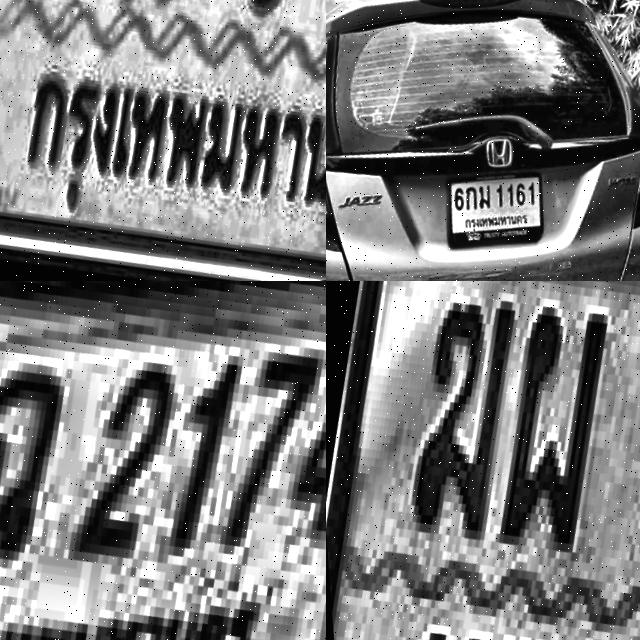license-plate: (0, 281, 326, 640), (326, 281, 640, 640), (0, 0, 326, 281), (425, 156, 555, 277)
